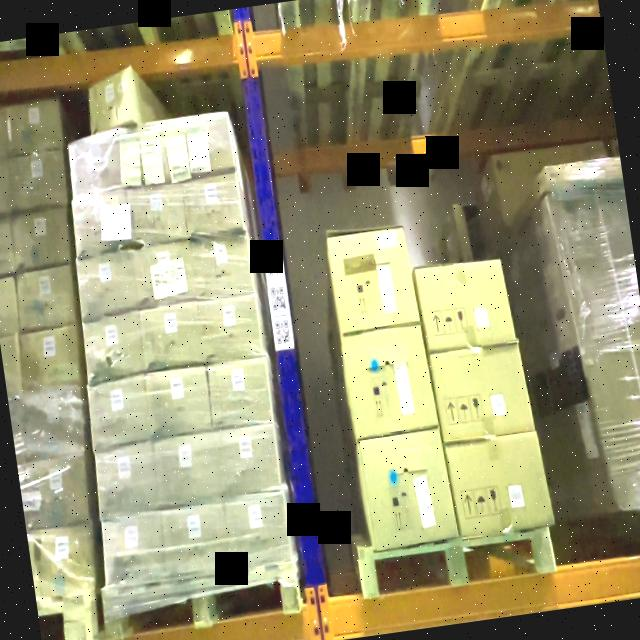box: (358, 433, 453, 548), (342, 326, 436, 438), (329, 226, 418, 334), (435, 345, 532, 443), (450, 437, 549, 533), (418, 261, 512, 350), (228, 496, 294, 566), (162, 508, 230, 574), (80, 316, 146, 381), (85, 382, 151, 447), (93, 450, 159, 515), (104, 517, 166, 583), (206, 360, 272, 421), (157, 440, 219, 502), (216, 429, 279, 490), (149, 376, 212, 436), (200, 297, 262, 357), (172, 118, 232, 176), (78, 259, 138, 315), (142, 310, 202, 366), (188, 240, 250, 293), (68, 138, 128, 192), (74, 195, 130, 252), (128, 186, 184, 242), (185, 178, 242, 232), (136, 251, 190, 304), (127, 128, 175, 187), (88, 77, 140, 123), (125, 154, 126, 155)
